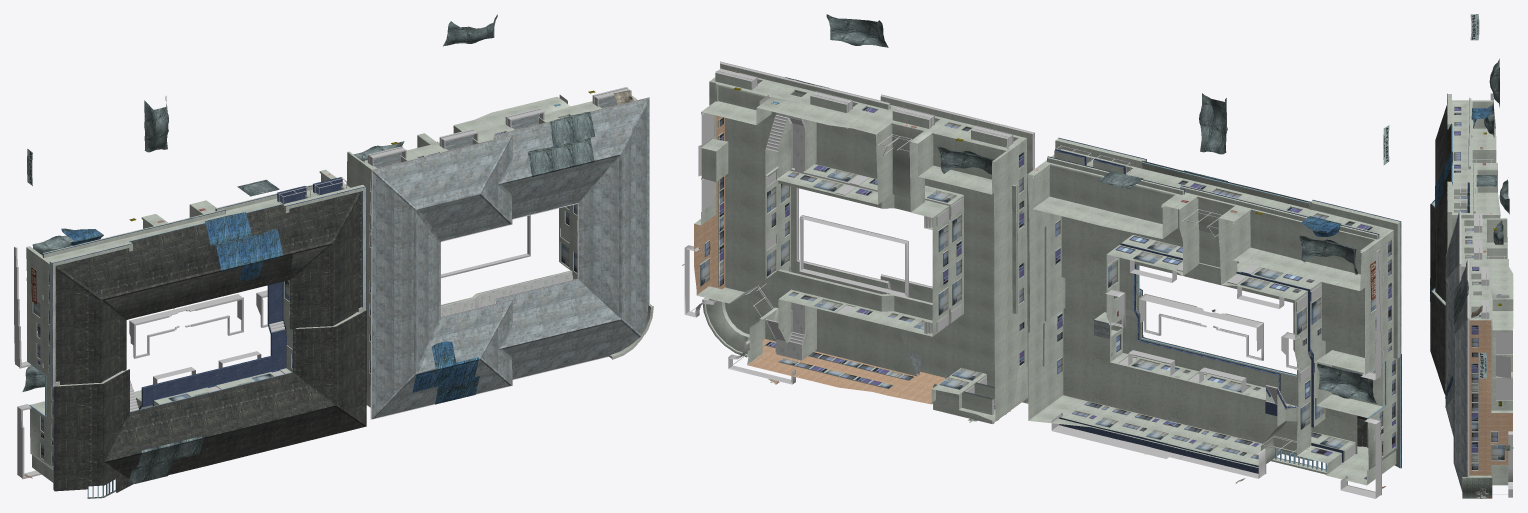
File: Apartment.fbx
The picture shows the model from 3 angles, left to right: view 1: azimuth 30°, elevation 25°; view 2: azimuth 150°, elevation 25°; view 3: azimuth 270°, elevation 25°; orthographic projection. The views are drawn at different scales.
Visible parts, largest first — view 1: sc1_12_apt; view 2: sc1_12_apt; view 3: sc1_12_apt.
Boxes of the visible parts, bbox=[...] form: sc1_12_apt: bbox=[14, 14, 653, 498]; sc1_12_apt: bbox=[682, 14, 1401, 498]; sc1_12_apt: bbox=[1430, 14, 1513, 498].
Size of the model in its own units: 8932 by 4944 by 1347.
